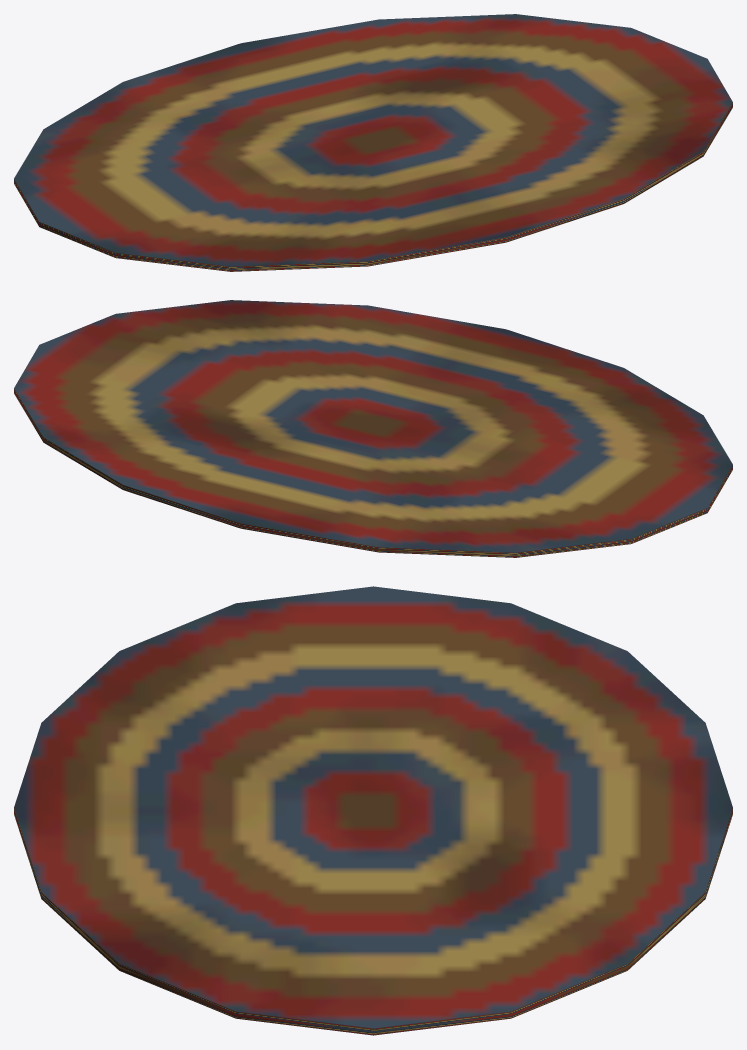
File: rug_braided.obj
The picture shows the model from 3 angles, top to bottom: view 1: azimuth 30°, elevation 25°; view 2: azimuth 150°, elevation 25°; view 3: azimuth 270°, elevation 25°; orthographic projection. The views are drawn at different scales.
Parts seen in each view (by area): view 1: rug_braided; view 2: rug_braided; view 3: rug_braided.
Boxes of the visible parts, box(x1,y1,x2,y2) form: rug_braided: box(14, 14, 732, 271); rug_braided: box(14, 300, 732, 557); rug_braided: box(14, 586, 732, 1035).
Size of the model in its own units: 1.6 by 0.012 by 1.1.
1 material, 1 textured.
